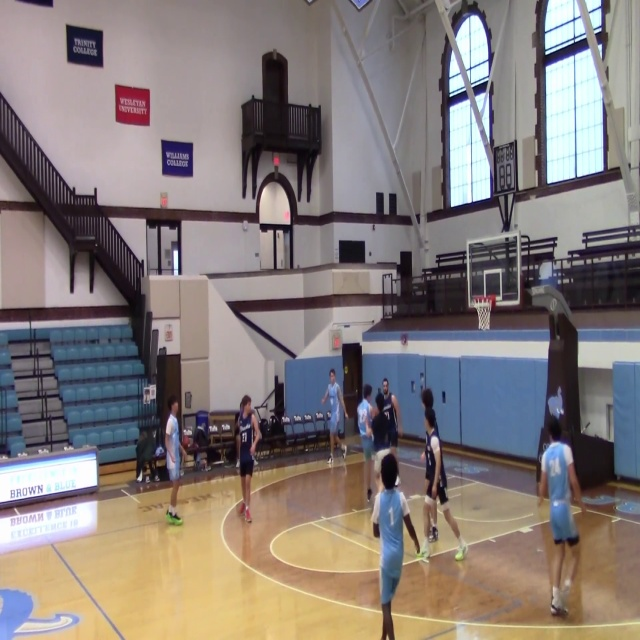Basketball: (182, 436, 191, 448), (237, 502, 244, 514)
